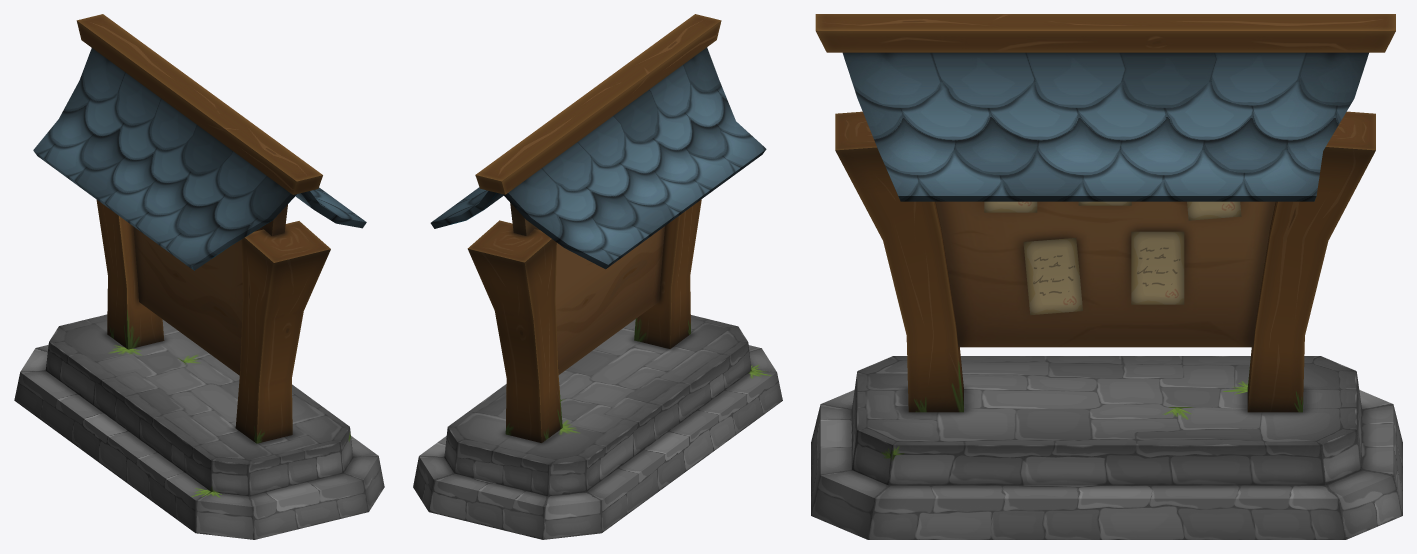
File: questboard.FBX
3 views of the same model, side by side, from view 1: azimuth 30°, elevation 25°; view 2: azimuth 150°, elevation 25°; view 3: azimuth 270°, elevation 25° (orthographic). The views are drawn at different scales.
Visible parts, largest first — view 1: board01; view 2: board01; view 3: board01.
Part boxes in pixels (x1,y1,x2,y2): board01: [14, 14, 384, 539]; board01: [413, 14, 782, 539]; board01: [811, 14, 1402, 539].
Size of the model in its own units: 12.16 by 25.01 by 21.29.
